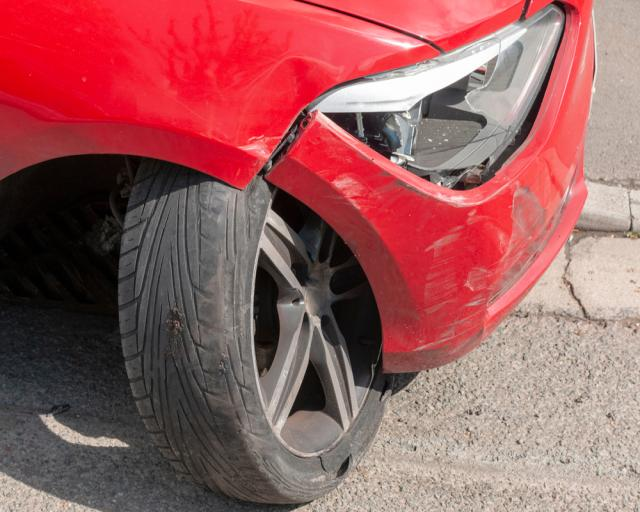dent: (242, 56, 339, 157)
lamp broken: (313, 5, 567, 188)
scratch: (327, 150, 571, 348)
tire flat: (121, 159, 389, 503)
